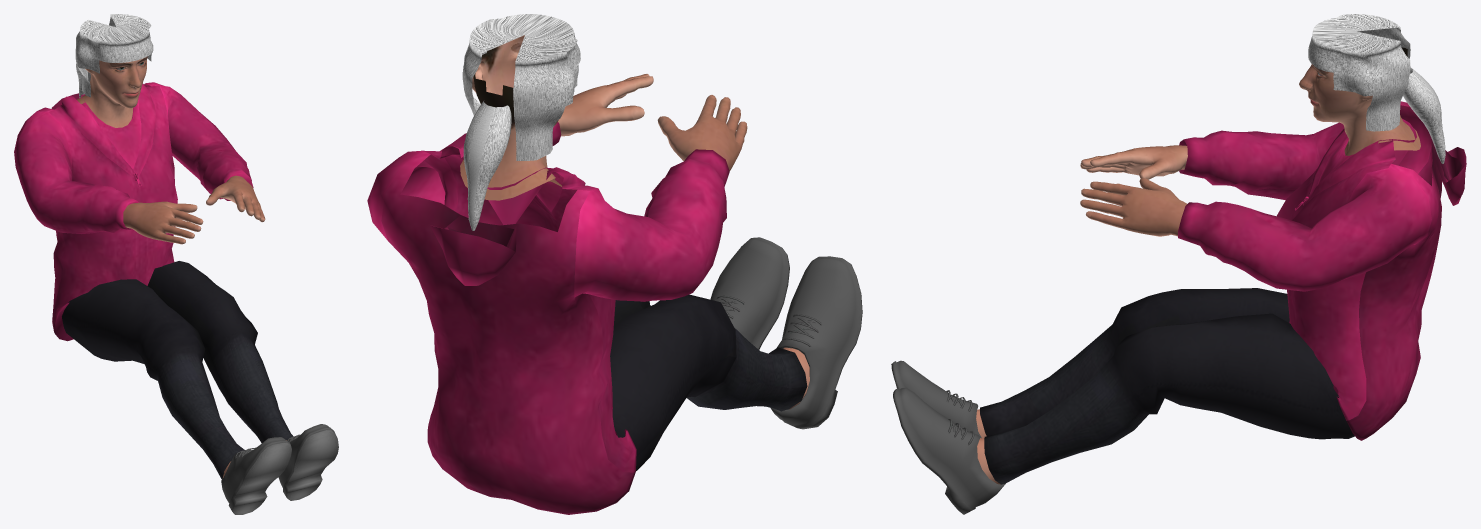
Rendered from mulher_a.glb.
The picture shows the model from 3 angles, left to right: view 1: azimuth 30°, elevation 25°; view 2: azimuth 150°, elevation 25°; view 3: azimuth 270°, elevation 25°; orthographic projection. The views are drawn at different scales.
Parts seen in each view (by area): view 1: Corpo1, Corpo3, Corpo2, Corpo4; view 2: Corpo1, Corpo2, Corpo3, Corpo4; view 3: Corpo1, Corpo3, Corpo2, Corpo4.
Part boxes in pixels (x1,y1,x2,y2): Corpo1: (14, 82, 253, 341); Corpo3: (62, 261, 292, 479); Corpo2: (75, 14, 286, 477); Corpo4: (221, 424, 338, 514); Corpo1: (367, 122, 729, 514); Corpo2: (460, 14, 809, 409); Corpo3: (610, 294, 807, 470); Corpo4: (710, 237, 862, 429); Corpo1: (1178, 101, 1466, 440); Corpo3: (980, 288, 1354, 484); Corpo2: (976, 14, 1445, 484); Corpo4: (891, 360, 1005, 514).
Size of the model in its own units: 0.6221 by 1.09 by 1.23.
3 materials, 3 textured.
